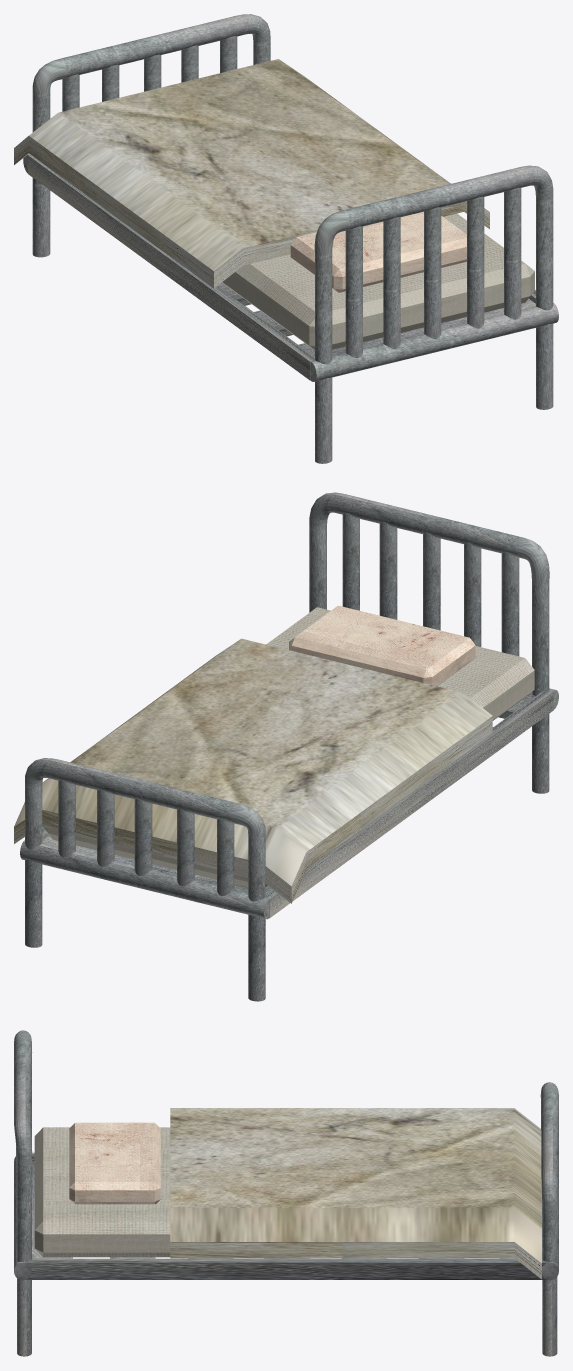
File: HUb_Bed.fbx
3 views of the same model, one above another, from view 1: azimuth 30°, elevation 25°; view 2: azimuth 150°, elevation 25°; view 3: azimuth 270°, elevation 25° (orthographic). The views are drawn at different scales.
Visible parts, largest first — view 1: Bed; view 2: Bed; view 3: Bed.
Part boxes in pixels (box(x1,y1,x2,y2)): Bed: box(14, 14, 558, 463); Bed: box(14, 492, 558, 1001); Bed: box(14, 1030, 558, 1356).
Bounding box in the file's own units: 238 × 202 × 438.
4 materials, 4 textured.
